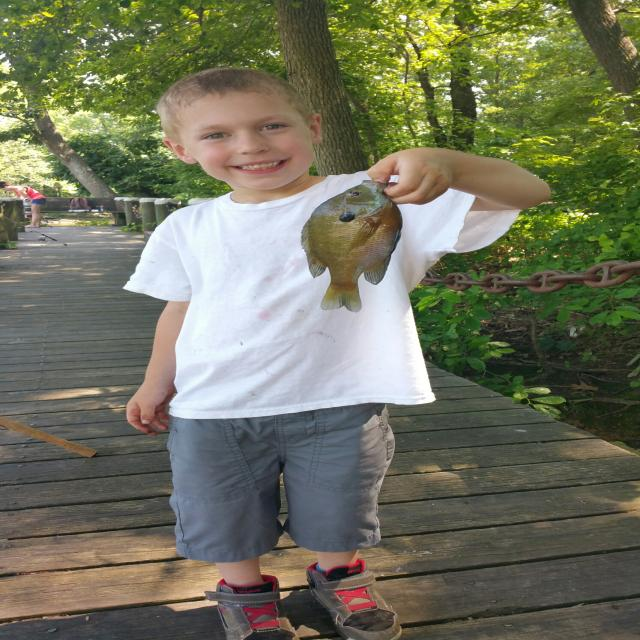Bluegill: (302, 180, 402, 312)
